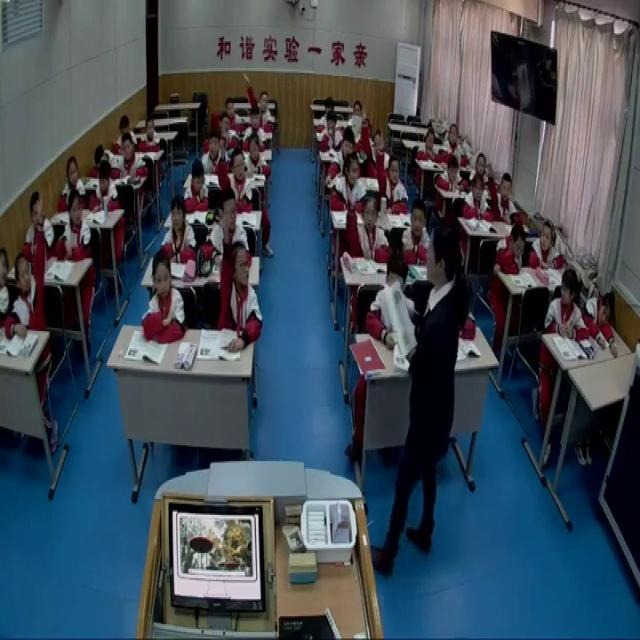distracted: (547, 266, 587, 341), (531, 216, 563, 272)
focused: (144, 251, 186, 346), (206, 186, 254, 268), (54, 190, 94, 264), (162, 196, 198, 270), (331, 152, 365, 215), (402, 200, 434, 264), (58, 156, 90, 213), (89, 162, 121, 212), (115, 134, 148, 182), (460, 178, 494, 224), (243, 133, 275, 181), (437, 156, 471, 198), (330, 129, 358, 178), (183, 161, 210, 211), (203, 130, 230, 179), (320, 111, 346, 153), (242, 105, 268, 146), (442, 119, 466, 161), (469, 149, 494, 187), (141, 116, 165, 154), (417, 126, 440, 165), (217, 113, 235, 150), (224, 99, 242, 135)
raising_hand: (214, 202, 262, 356), (6, 193, 48, 334), (342, 183, 392, 269), (375, 128, 410, 217), (217, 138, 252, 212), (484, 158, 520, 223), (242, 68, 278, 132), (359, 106, 387, 178)
sleep: (582, 285, 620, 361), (495, 220, 527, 279), (90, 140, 124, 176)
